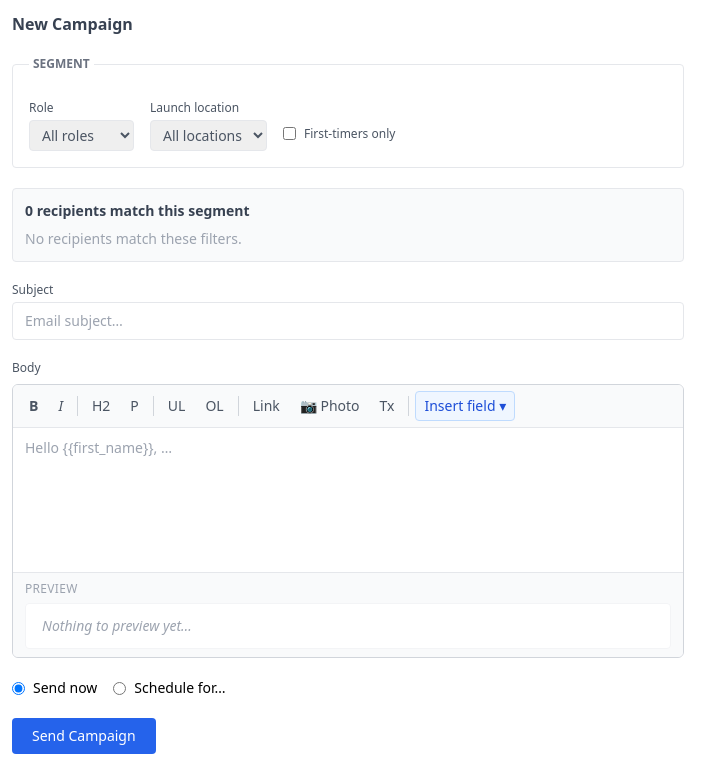
CampaignComposer › shows Done! after a successful send
The width and height of the screenshot is (701, 771).
Type "Test Subject" into the field with placeholder "Email subject…" at (348, 321), box [12,302,684,340]
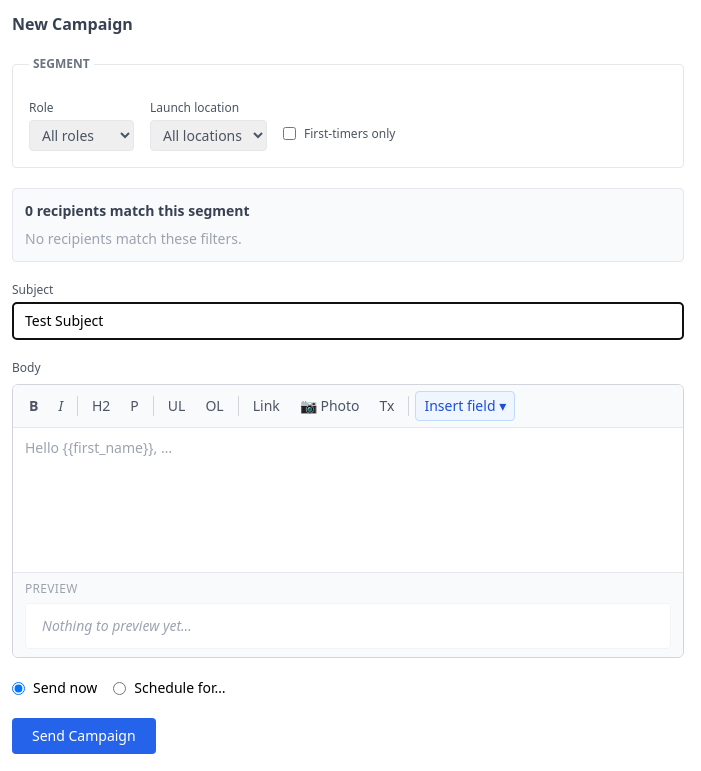
Clear the field named "email body" at (348, 500), box [13,428,683,572]
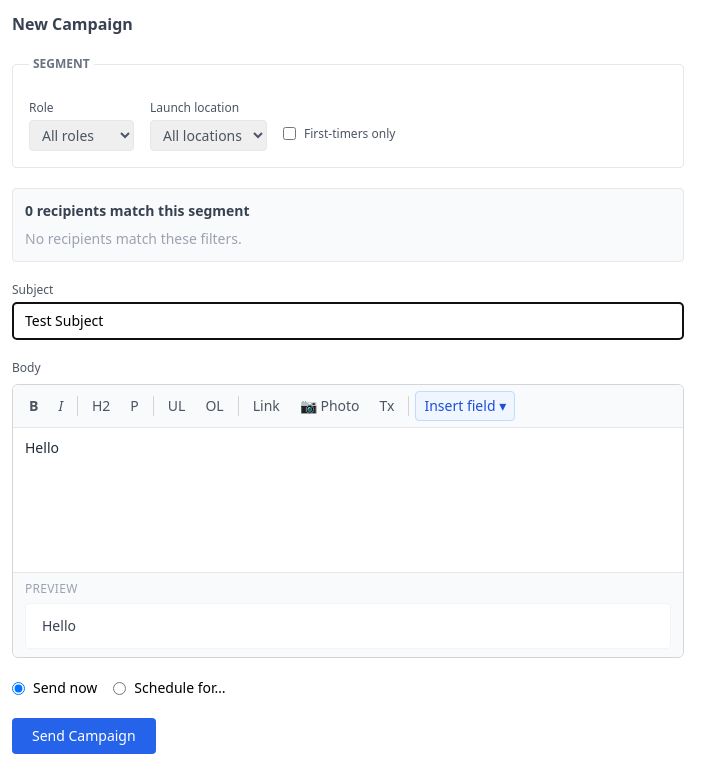
Click the button "Send Campaign" at (84, 736), box [12,718,156,754]
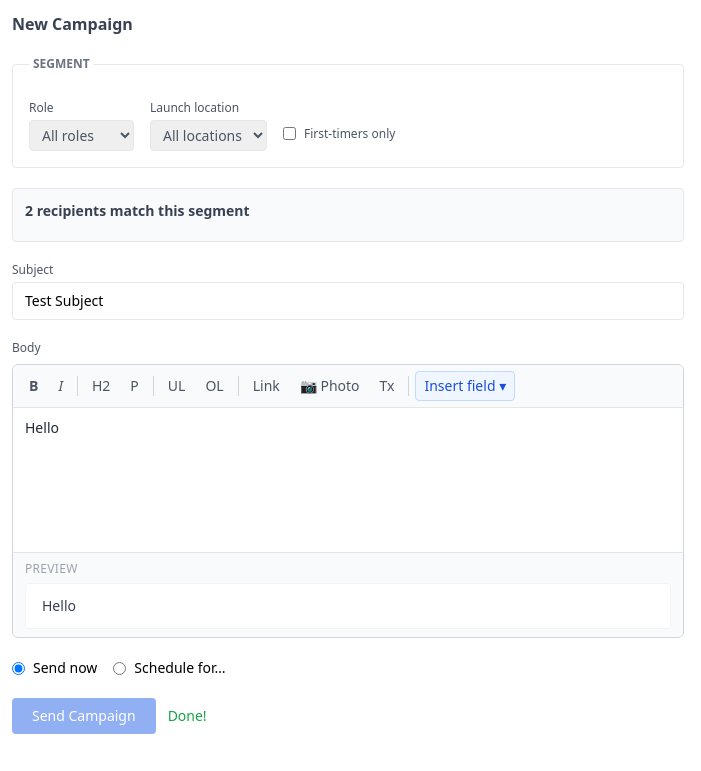
Now the text "Done!" is shown, box [168,706,207,726]
